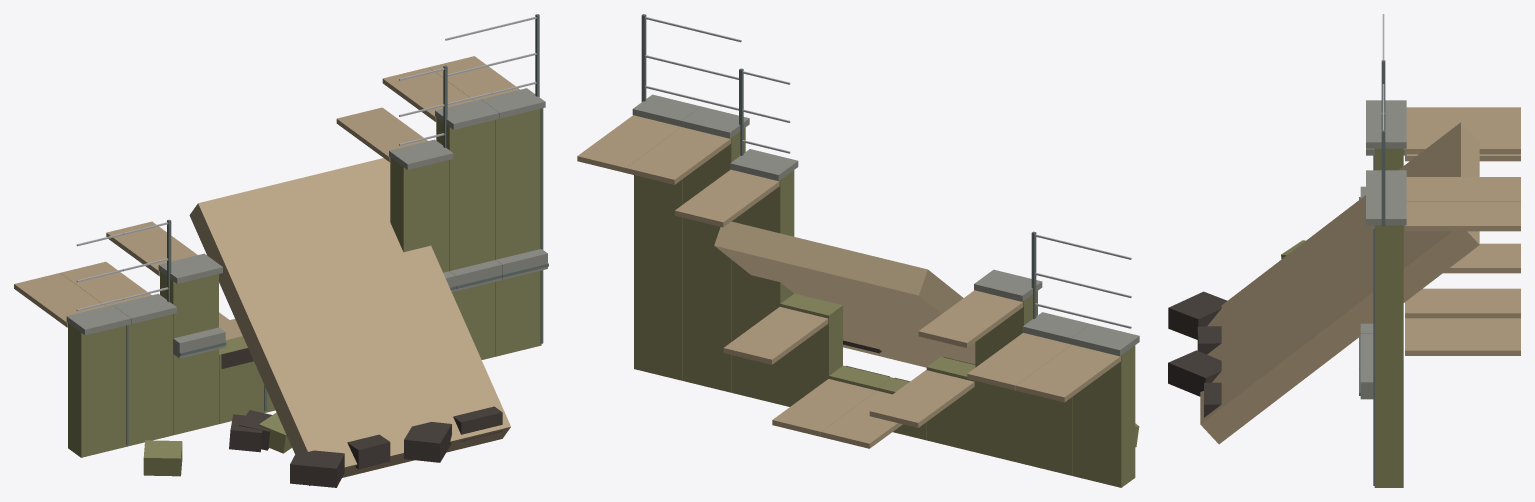
Rendered from SM_MuroRampa_v4_Escalonado_e3_Brecha_LOD0.fbx.
3 renders of one model, left to right at view 1: azimuth 30°, elevation 25°; view 2: azimuth 150°, elevation 25°; view 3: azimuth 270°, elevation 25°, orthographic. The views are drawn at different scales.
Parts seen in each view (by area): view 1: SM_muro_rampa_v19_LOD0; view 2: SM_muro_rampa_v19_LOD0; view 3: SM_muro_rampa_v19_LOD0.
Part boxes in pixels (x1,y1,x2,y2): SM_muro_rampa_v19_LOD0: (14,14,548,487); SM_muro_rampa_v19_LOD0: (577,14,1139,487); SM_muro_rampa_v19_LOD0: (1168,14,1520,487).
Size of the model in its own units: 10.03 by 7.09 by 6.09.
